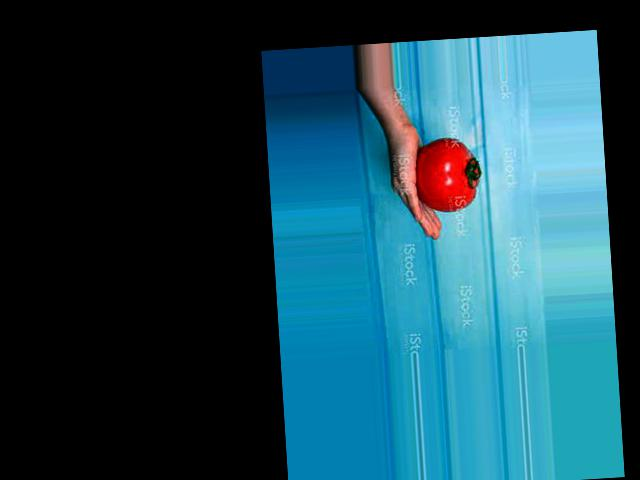tomato: (413, 137, 482, 214)
